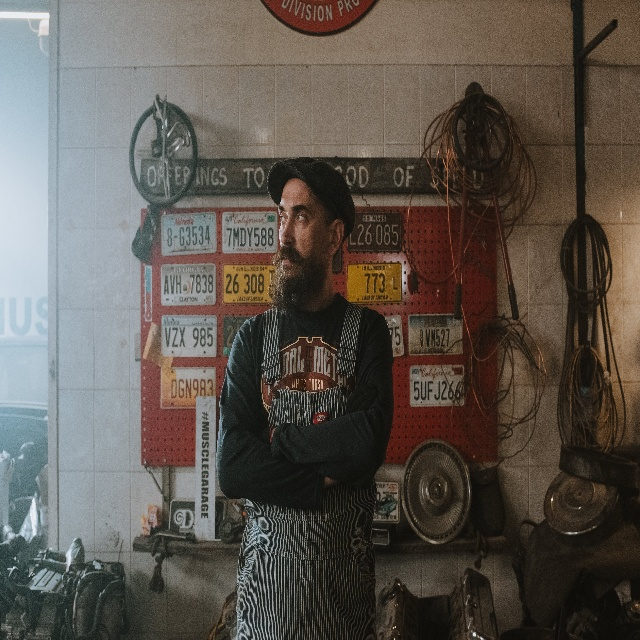Guantes: (254, 423, 275, 445)
